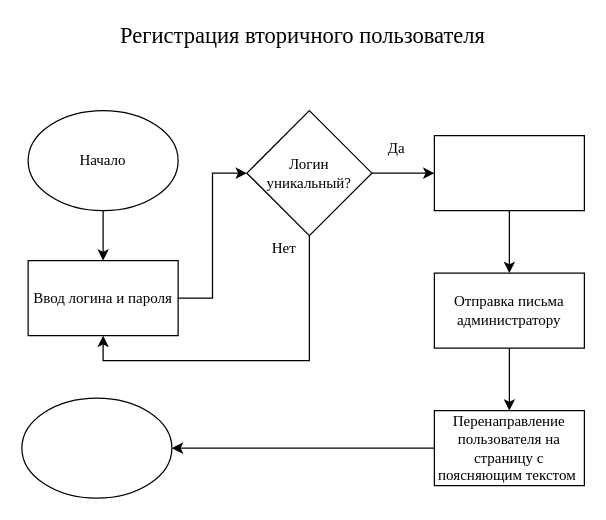
Image size: 606x520. Some labels were removed from this diagram. The centre of each missing label's shape, as x and y in pixels:
"Конец" belongs at point (96, 447).
"Создание неподтвержденной учетной записи" belongs at point (508, 172).
